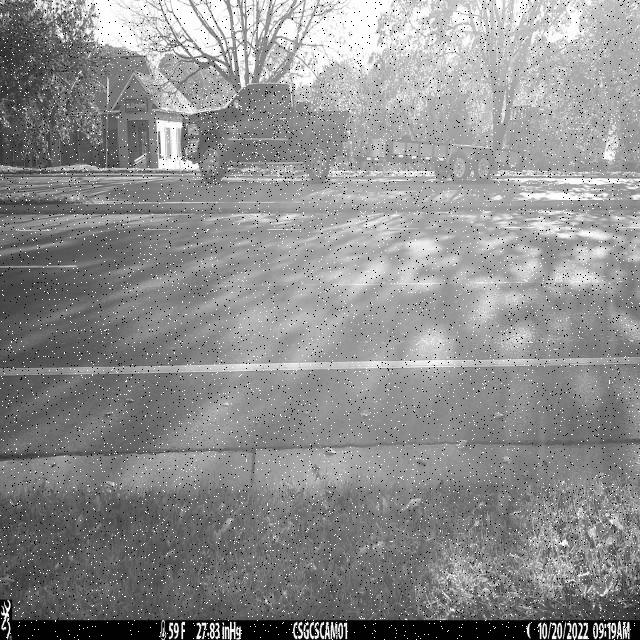Box Truck: (356, 107, 532, 181)
Pickup: (181, 84, 352, 185)
